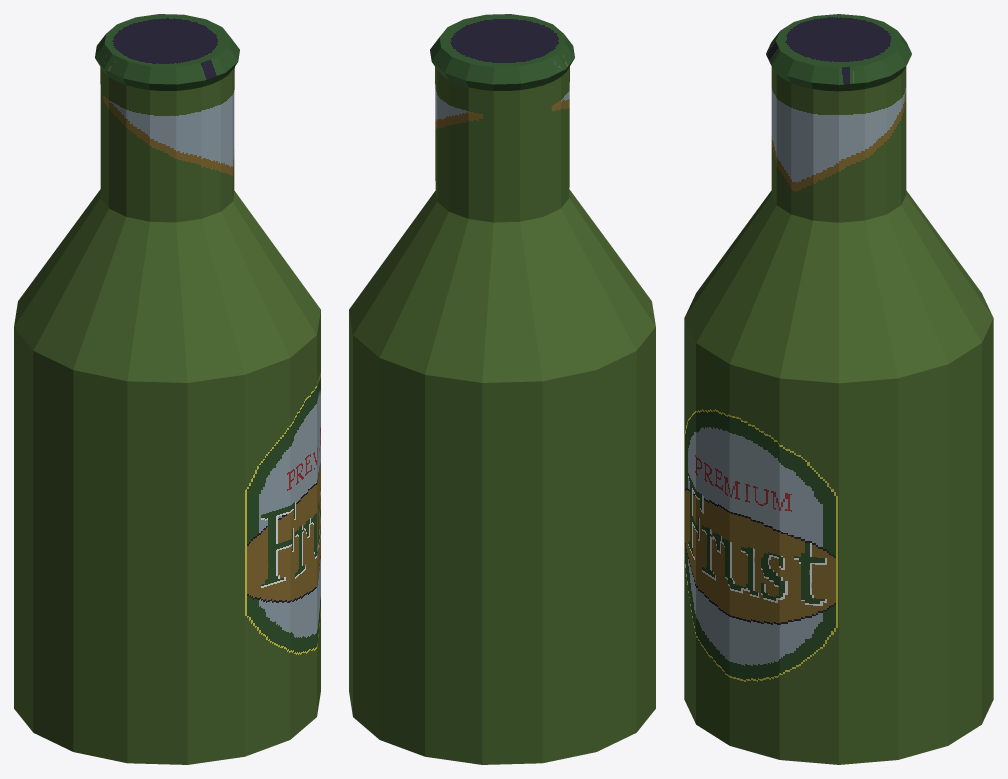
Rendered from beer_bottle.glb.
The picture shows the model from 3 angles, left to right: view 1: azimuth 30°, elevation 25°; view 2: azimuth 150°, elevation 25°; view 3: azimuth 270°, elevation 25°; orthographic projection.
Parts seen in each view (by area): view 1: Plane; view 2: Plane; view 3: Plane.
Part boxes in pixels (left/top/right/bottom): Plane: left=14, top=14, right=320, bottom=764; Plane: left=349, top=14, right=655, bottom=764; Plane: left=684, top=14, right=993, bottom=764.
Bounding box in the file's own units: 0.6088 × 1.43 × 0.6088.
1 material, 1 textured.
